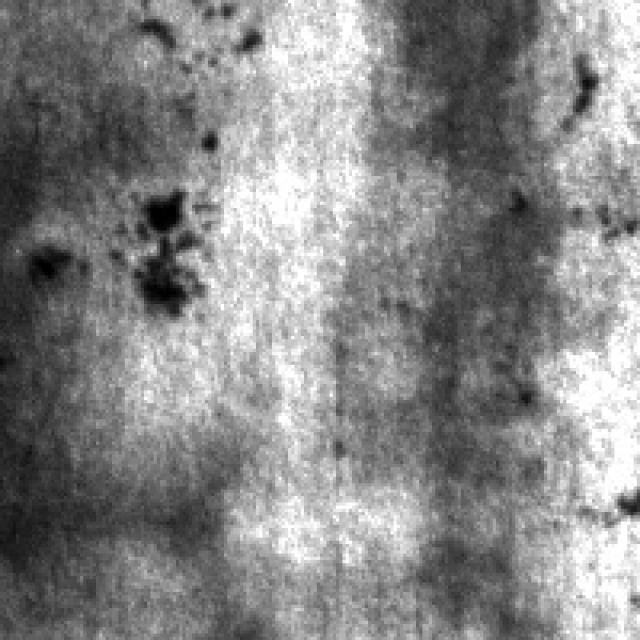inclusion: (131, 182, 208, 314), (557, 36, 624, 134), (22, 224, 93, 307)
patches: (381, 0, 576, 490), (3, 320, 250, 589), (3, 64, 227, 198), (416, 480, 570, 637)
